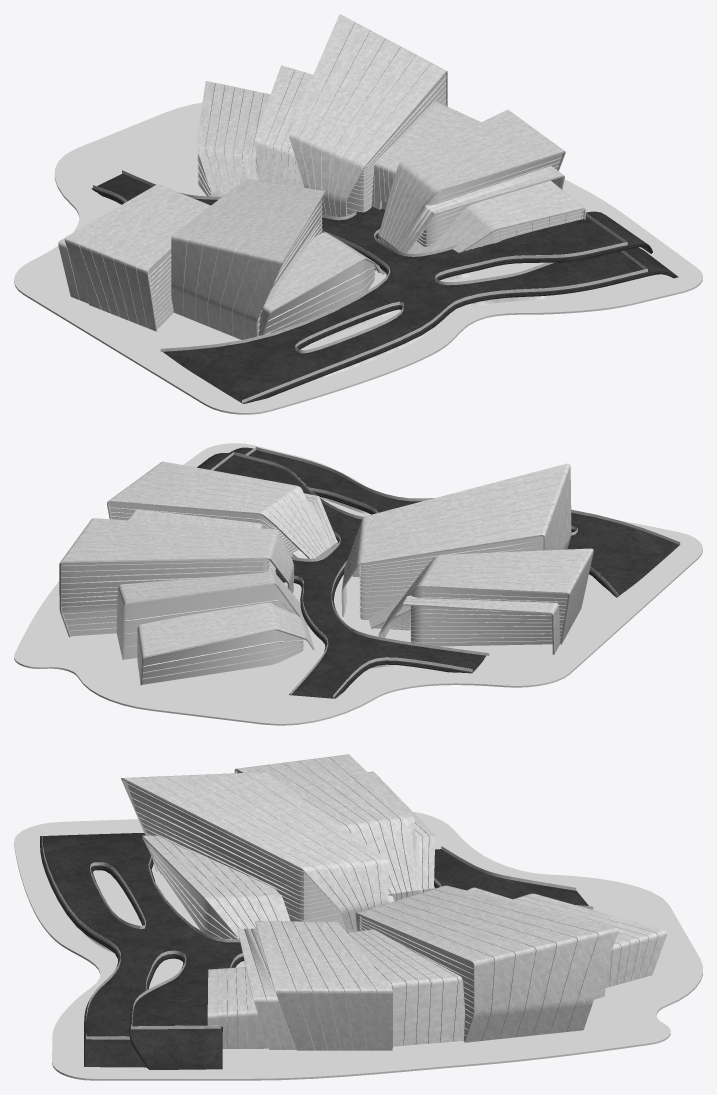
The model's file is KB3D_UTP_BldgSM_F.fbx.
The picture shows the model from 3 angles, top to bottom: view 1: azimuth 30°, elevation 25°; view 2: azimuth 150°, elevation 25°; view 3: azimuth 270°, elevation 25°; orthographic projection. The views are drawn at different scales.
Visible parts, largest first — view 1: KB3D_UTP_BldgSM_F_Main, KB3D_UTP_BldgSM_F_BuildingH, KB3D_UTP_BldgSM_F_BuildingA, KB3D_UTP_BldgSM_F_BuildingE, KB3D_UTP_BldgSM_F_BuildingD, KB3D_UTP_BldgSM_F_BuildingB, KB3D_UTP_BldgSM_F_BuildingJ, KB3D_UTP_BldgSM_F_BuildingF, KB3D_UTP_BldgSM_F_BuildingI, KB3D_UTP_BldgSM_F_BuildingG; view 2: KB3D_UTP_BldgSM_F_Main, KB3D_UTP_BldgSM_F_BuildingA, KB3D_UTP_BldgSM_F_BuildingD, KB3D_UTP_BldgSM_F_BuildingH, KB3D_UTP_BldgSM_F_BuildingE, KB3D_UTP_BldgSM_F_BuildingJ, KB3D_UTP_BldgSM_F_BuildingI, KB3D_UTP_BldgSM_F_BuildingG, KB3D_UTP_BldgSM_F_BuildingC; view 3: KB3D_UTP_BldgSM_F_Main, KB3D_UTP_BldgSM_F_BuildingH, KB3D_UTP_BldgSM_F_BuildingA, KB3D_UTP_BldgSM_F_BuildingE, KB3D_UTP_BldgSM_F_BuildingD, KB3D_UTP_BldgSM_F_BuildingB, KB3D_UTP_BldgSM_F_BuildingG, KB3D_UTP_BldgSM_F_BuildingJ, KB3D_UTP_BldgSM_F_BuildingF.
Part boxes in pixels (x1,y1,x2,y2): KB3D_UTP_BldgSM_F_Main: (14,102,702,414); KB3D_UTP_BldgSM_F_BuildingH: (288,14,447,216); KB3D_UTP_BldgSM_F_BuildingA: (171,179,325,339); KB3D_UTP_BldgSM_F_BuildingE: (378,109,565,253); KB3D_UTP_BldgSM_F_BuildingD: (58,184,210,331); KB3D_UTP_BldgSM_F_BuildingB: (258,232,384,335); KB3D_UTP_BldgSM_F_BuildingJ: (196,81,270,196); KB3D_UTP_BldgSM_F_BuildingF: (408,180,585,253); KB3D_UTP_BldgSM_F_BuildingI: (254,65,312,187); KB3D_UTP_BldgSM_F_BuildingG: (371,101,480,209); KB3D_UTP_BldgSM_F_Main: (14,443,702,725); KB3D_UTP_BldgSM_F_BuildingA: (341,463,571,619); KB3D_UTP_BldgSM_F_BuildingD: (378,548,593,654); KB3D_UTP_BldgSM_F_BuildingH: (59,518,294,637); KB3D_UTP_BldgSM_F_BuildingE: (107,461,337,558); KB3D_UTP_BldgSM_F_BuildingJ: (137,602,314,685); KB3D_UTP_BldgSM_F_BuildingI: (116,568,307,659); KB3D_UTP_BldgSM_F_BuildingG: (127,509,263,528); KB3D_UTP_BldgSM_F_BuildingC: (368,595,410,630); KB3D_UTP_BldgSM_F_Main: (14,811,702,1080); KB3D_UTP_BldgSM_F_BuildingH: (355,885,618,1042); KB3D_UTP_BldgSM_F_BuildingA: (121,772,389,930); KB3D_UTP_BldgSM_F_BuildingE: (237,921,393,1050); KB3D_UTP_BldgSM_F_BuildingD: (234,754,435,900); KB3D_UTP_BldgSM_F_BuildingB: (142,835,290,939); KB3D_UTP_BldgSM_F_BuildingG: (347,929,464,1046); KB3D_UTP_BldgSM_F_BuildingJ: (513,893,667,987); KB3D_UTP_BldgSM_F_BuildingF: (207,967,268,1048).
Bounding box in the file's own units: 16170 × 2876 × 17525.
